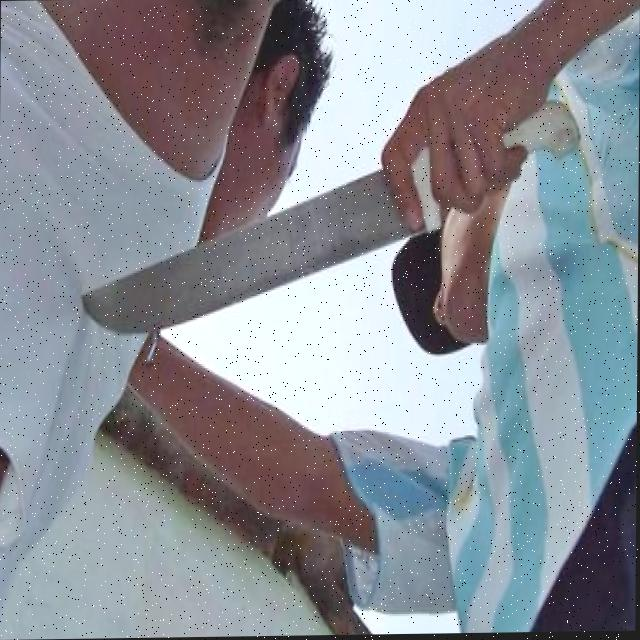knife: (79, 151, 434, 334)
